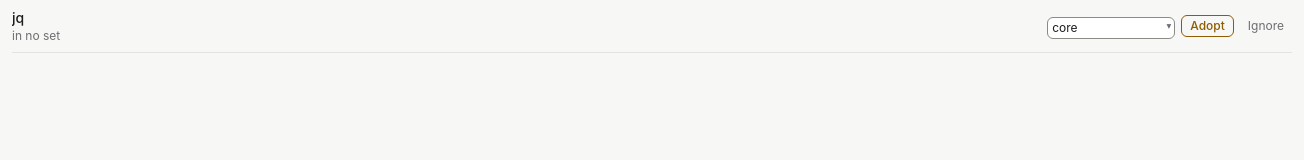
it: Unmanaged › offers every set as an adoption target
Click the dropdown named "set for jq". click: x=1111, y=28
box: [1047,16,1175,38]
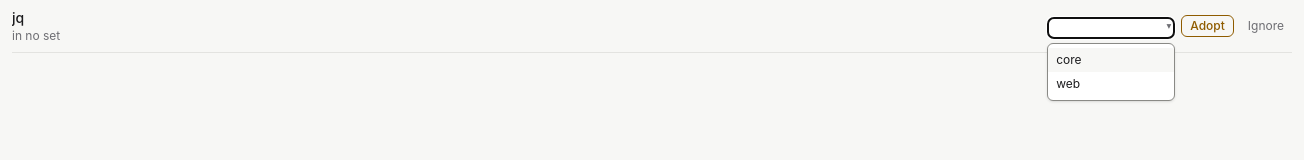
Result: the option "web" is shown at [1056,76,1080,90]
